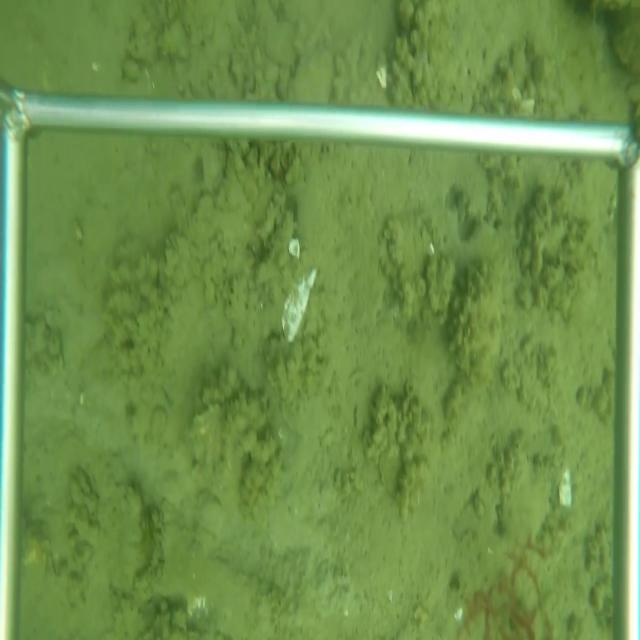Oyster-Indeterminate: (286, 49, 338, 104), (372, 439, 405, 501)
